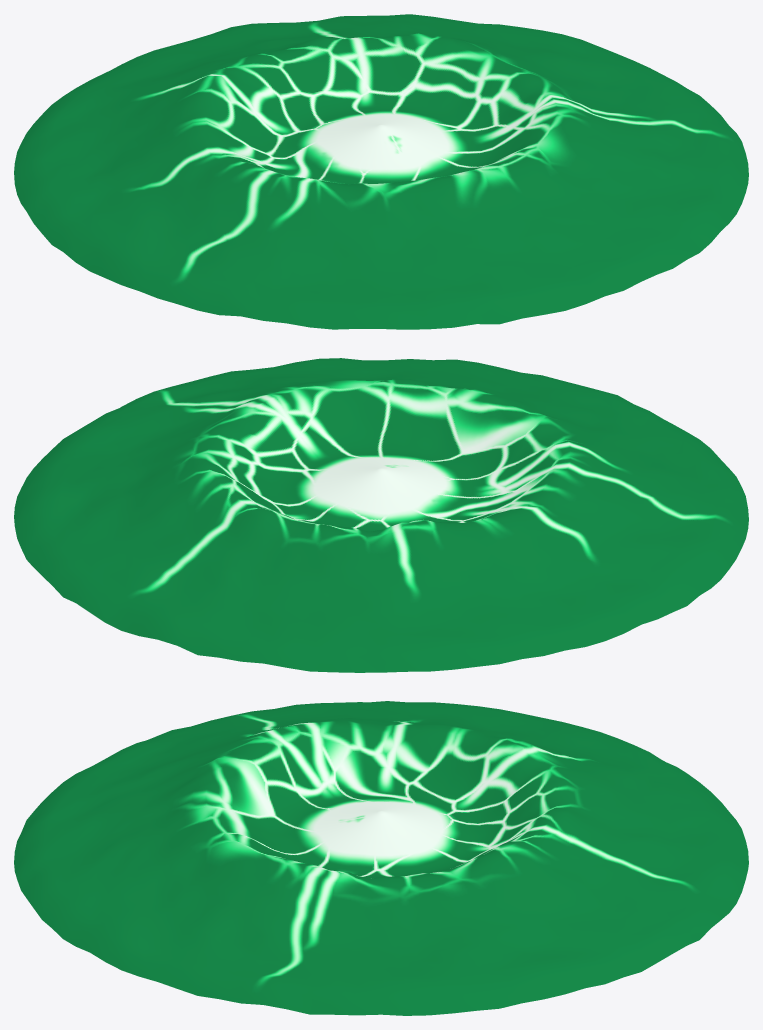
File: magma_emerald.glb
3 renders of one model, top to bottom at view 1: azimuth 30°, elevation 25°; view 2: azimuth 150°, elevation 25°; view 3: azimuth 270°, elevation 25°, orthographic.
Visible parts, largest first — view 1: magma; view 2: magma; view 3: magma.
Boxes of the visible parts, x1=… form: magma: x1=14, y1=14, x2=748, y2=329; magma: x1=14, y1=358, x2=748, y2=672; magma: x1=14, y1=701, x2=748, y2=1015.
Bounding box in the file's own units: 4 × 0.4326 × 4.
1 material, 1 textured.
